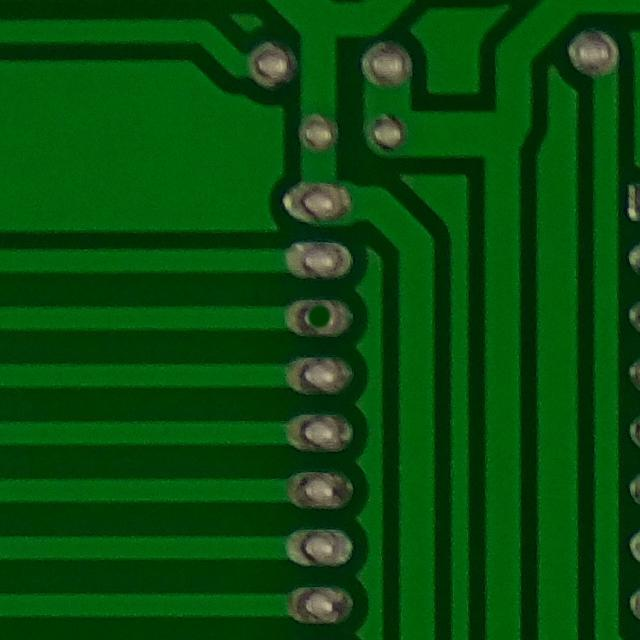missing_hole: (286, 290, 354, 351)
